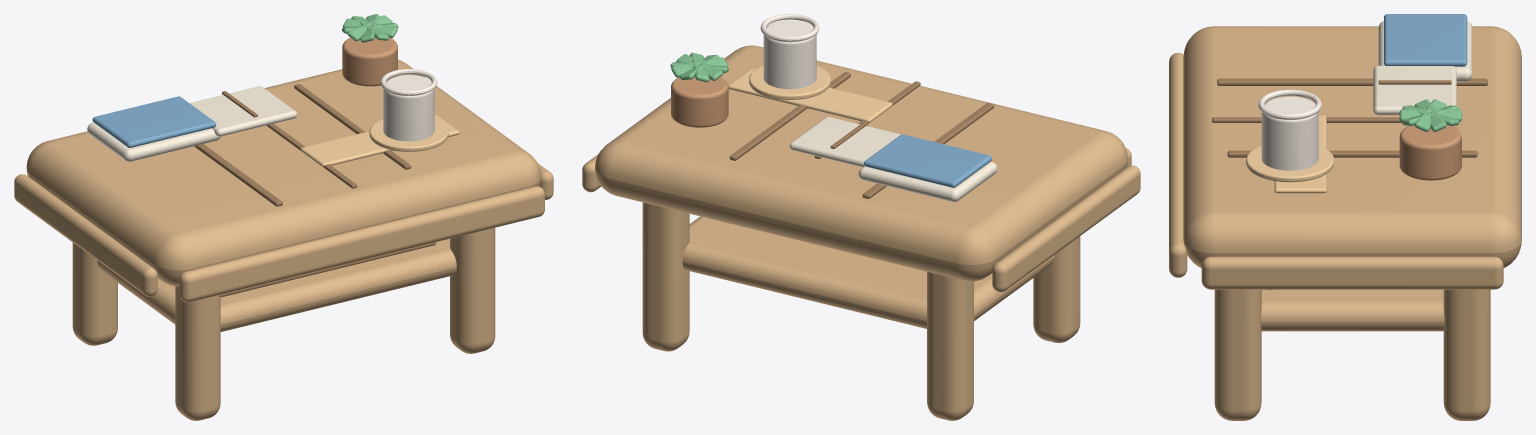
The model's file is 目标原木小茶几.fbx.
The picture shows the model from 3 angles, left to right: view 1: azimuth 30°, elevation 25°; view 2: azimuth 150°, elevation 25°; view 3: azimuth 270°, elevation 25°; orthographic projection. The views are drawn at different scales.
Parts seen in each view (by area): view 1: 目标原木小茶几_v233_圆角厚桌面, 目标原木小茶几_v233_桌面前厚边, 目标原木小茶几_v233_圆角下层板, 目标原木小茶几_v233_圆润外撇桌脚, 目标原木小茶几_v233_圆润外撇桌脚.002, 目标原木小茶几_v233_桌面侧厚边左, 目标原木小茶几_v112_海蓝书封, 目标原木小茶几_v233_圆润外撇桌脚.001, 目标原木小茶几_v233_打开书奶油页, 目标原木小茶几_v112_奶油马克杯, 目标原木小茶几_v233_陶土小盆, 目标原木小茶几_v112_圆角书本下页 (+7 smaller); view 2: 目标原木小茶几_v233_圆角厚桌面, 目标原木小茶几_v233_圆角下层板, 目标原木小茶几_v233_圆润外撇桌脚.001, 目标原木小茶几_v233_圆润外撇桌脚.003, 目标原木小茶几_v233_桌面侧厚边左, 目标原木小茶几_v112_海蓝书封, 目标原木小茶几_v233_圆润外撇桌脚, 目标原木小茶几_v112_奶油马克杯, 目标原木小茶几_v233_打开书奶油页, 目标原木小茶几_v233_陶土小盆, 目标原木小茶几_桌面柔亮高光, 目标原木小茶几_v112_圆角书本下页 (+4 smaller); view 3: 目标原木小茶几_v233_圆角厚桌面, 目标原木小茶几_v233_桌面侧厚边右, 目标原木小茶几_v233_圆角下层板, 目标原木小茶几_v233_圆润外撇桌脚.002, 目标原木小茶几_v233_圆润外撇桌脚.003, 目标原木小茶几_v112_海蓝书封, 目标原木小茶几_v112_奶油马克杯, 目标原木小茶几_v233_桌面前厚边, 目标原木小茶几_v233_打开书奶油页, 目标原木小茶几_v233_陶土小盆, 目标原木小茶几_v112_杯垫, 目标原木小茶几_桌面木纹深槽一 (+9 smaller).
Boxes of the visible parts, x1=… form: 目标原木小茶几_v233_圆角厚桌面: x1=26, y1=59, x2=541, y2=286; 目标原木小茶几_v233_桌面前厚边: x1=179, y1=186, x2=544, y2=302; 目标原木小茶几_v233_圆角下层板: x1=97, y1=238, x2=456, y2=331; 目标原木小茶几_v233_圆润外撇桌脚: x1=175, y1=286, x2=220, y2=420; 目标原木小茶几_v233_圆润外撇桌脚.002: x1=450, y1=227, x2=495, y2=353; 目标原木小茶几_v233_桌面侧厚边左: x1=14, y1=174, x2=157, y2=296; 目标原木小茶几_v112_海蓝书封: x1=92, y1=96, x2=216, y2=147; 目标原木小茶几_v233_圆润外撇桌脚.001: x1=72, y1=242, x2=117, y2=345; 目标原木小茶几_v233_打开书奶油页: x1=189, y1=86, x2=297, y2=136; 目标原木小茶几_v112_奶油马克杯: x1=383, y1=75, x2=434, y2=141; 目标原木小茶几_v233_陶土小盆: x1=342, y1=37, x2=397, y2=86; 目标原木小茶几_v112_圆角书本下页: x1=87, y1=122, x2=220, y2=161; 目标原木小茶几_v233_圆角厚桌面: x1=595, y1=45, x2=1127, y2=281; 目标原木小茶几_v233_圆角下层板: x1=682, y1=216, x2=1054, y2=328; 目标原木小茶几_v233_圆润外撇桌脚.001: x1=927, y1=271, x2=973, y2=420; 目标原木小茶几_v233_圆润外撇桌脚.003: x1=642, y1=202, x2=689, y2=351; 目标原木小茶几_v233_桌面侧厚边左: x1=992, y1=165, x2=1140, y2=292; 目标原木小茶几_v112_海蓝书封: x1=864, y1=134, x2=991, y2=187; 目标原木小茶几_v233_圆润外撇桌脚: x1=1033, y1=236, x2=1080, y2=343; 目标原木小茶几_v112_奶油马克杯: x1=763, y1=20, x2=816, y2=89; 目标原木小茶几_v233_打开书奶油页: x1=789, y1=116, x2=901, y2=167; 目标原木小茶几_v233_陶土小盆: x1=671, y1=77, x2=728, y2=127; 目标原木小茶几_桌面柔亮高光: x1=728, y1=68, x2=892, y2=122; 目标原木小茶几_v112_圆角书本下页: x1=858, y1=161, x2=997, y2=202; 目标原木小茶几_v233_圆角厚桌面: x1=1183, y1=26, x2=1521, y2=268; 目标原木小茶几_v233_桌面侧厚边右: x1=1201, y1=256, x2=1503, y2=289; 目标原木小茶几_v233_圆角下层板: x1=1260, y1=289, x2=1444, y2=331; 目标原木小茶几_v233_圆润外撇桌脚.002: x1=1214, y1=289, x2=1261, y2=420; 目标原木小茶几_v233_圆润外撇桌脚.003: x1=1443, y1=289, x2=1490, y2=420; 目标原木小茶几_v112_海蓝书封: x1=1384, y1=14, x2=1467, y2=66; 目标原木小茶几_v112_奶油马克杯: x1=1261, y1=96, x2=1318, y2=170; 目标原木小茶几_v233_桌面前厚边: x1=1169, y1=52, x2=1187, y2=277; 目标原木小茶几_v233_打开书奶油页: x1=1373, y1=65, x2=1456, y2=114; 目标原木小茶几_v233_陶土小盆: x1=1399, y1=125, x2=1461, y2=180; 目标原木小茶几_v112_杯垫: x1=1246, y1=145, x2=1334, y2=182; 目标原木小茶几_桌面木纹深槽一: x1=1217, y1=78, x2=1487, y2=85.
Bounding box in the file's own units: 102 × 62.88 × 67.75.
